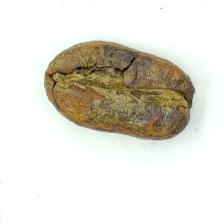NG: (46, 42, 192, 139)
